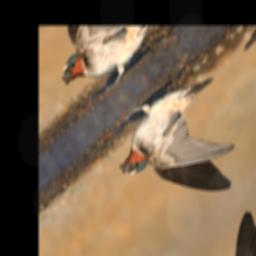Swallow: (99, 51, 256, 245)
